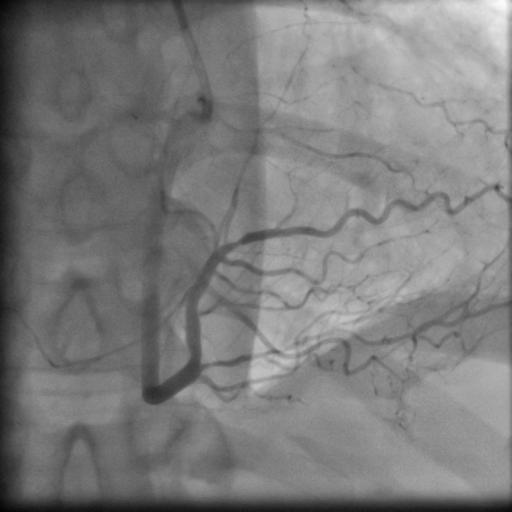Stenosis: (223, 234, 248, 251)
